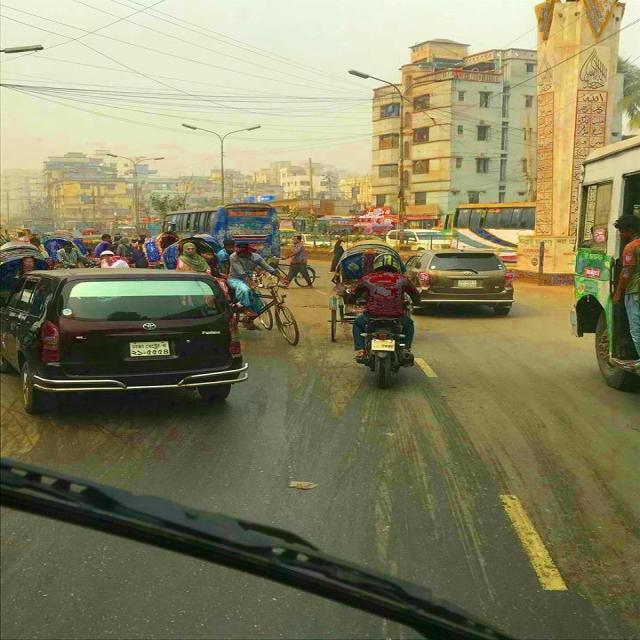maroon: (14, 260, 246, 422)
silver: (404, 245, 513, 315)
white: (384, 228, 456, 255)
